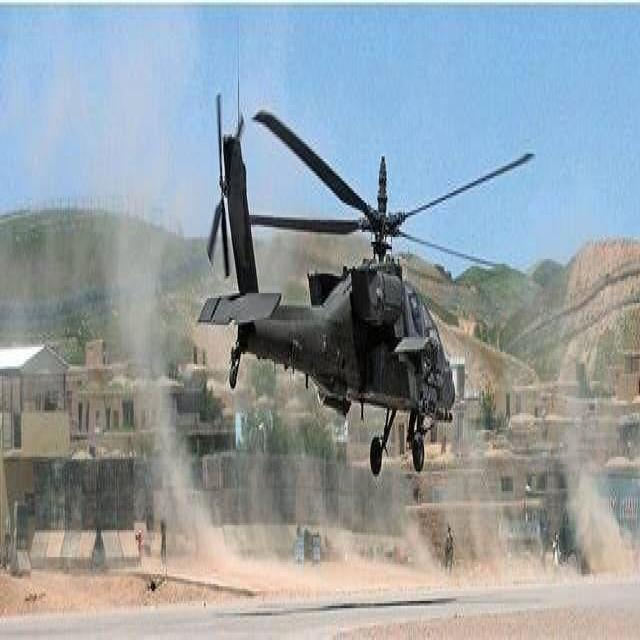MIL_HELO: (170, 101, 536, 502)
